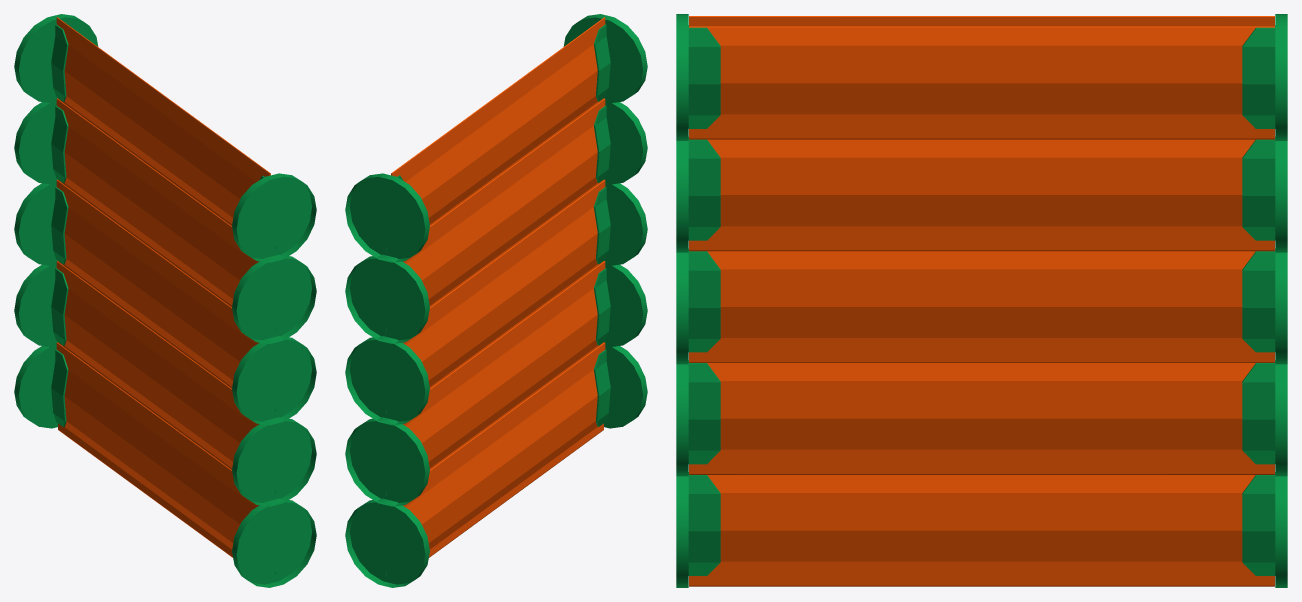
Rendered from animTest.FBX.
The picture shows the model from 3 angles, left to right: view 1: azimuth 30°, elevation 25°; view 2: azimuth 150°, elevation 25°; view 3: azimuth 270°, elevation 25°; orthographic projection. The views are drawn at different scales.
Visible parts, largest first — view 1: Zaslonka009, Zaslonka005, Zaslonka006, Zaslonka008, Zaslonka007; view 2: Zaslonka009, Zaslonka005, Zaslonka008, Zaslonka006, Zaslonka007; view 3: Zaslonka005, Zaslonka006, Zaslonka008, Zaslonka007, Zaslonka009.
Part boxes in pixels (x1,y1,x2,y2): Zaslonka009: (14, 342, 316, 587); Zaslonka005: (14, 14, 316, 262); Zaslonka006: (14, 98, 316, 343); Zaslonka008: (14, 261, 316, 506); Zaslonka007: (14, 179, 316, 425); Zaslonka009: (345, 342, 647, 587); Zaslonka005: (345, 14, 647, 262); Zaslonka008: (345, 261, 647, 506); Zaslonka006: (345, 98, 647, 343); Zaslonka007: (345, 179, 647, 425); Zaslonka005: (676, 14, 1287, 140); Zaslonka006: (676, 137, 1287, 252); Zaslonka008: (676, 360, 1287, 476); Zaslonka007: (676, 249, 1287, 364); Zaslonka009: (676, 472, 1287, 587).
Size of the model in its own units: 91.32 by 450 by 439.
